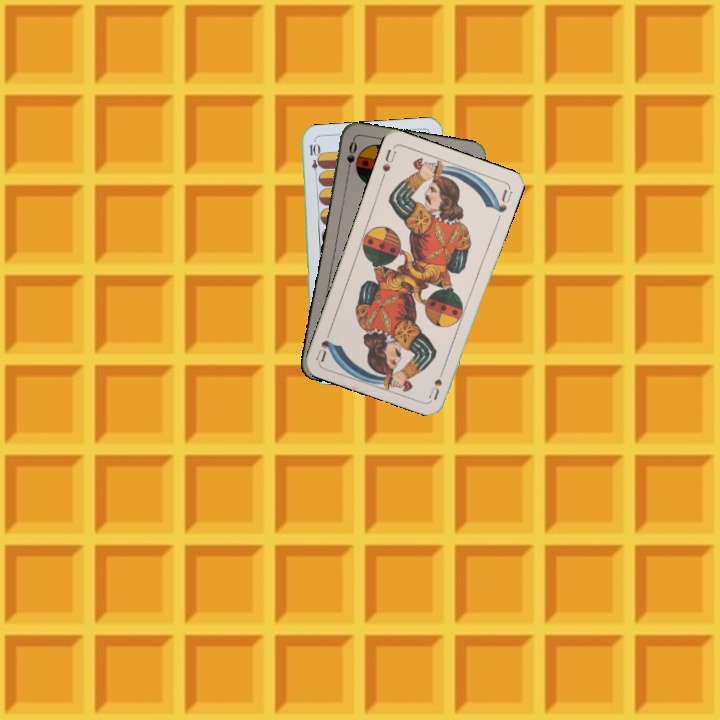E10: (305, 139, 321, 180)
SO: (343, 137, 360, 177)
SU: (425, 362, 448, 402), (377, 144, 399, 183)
